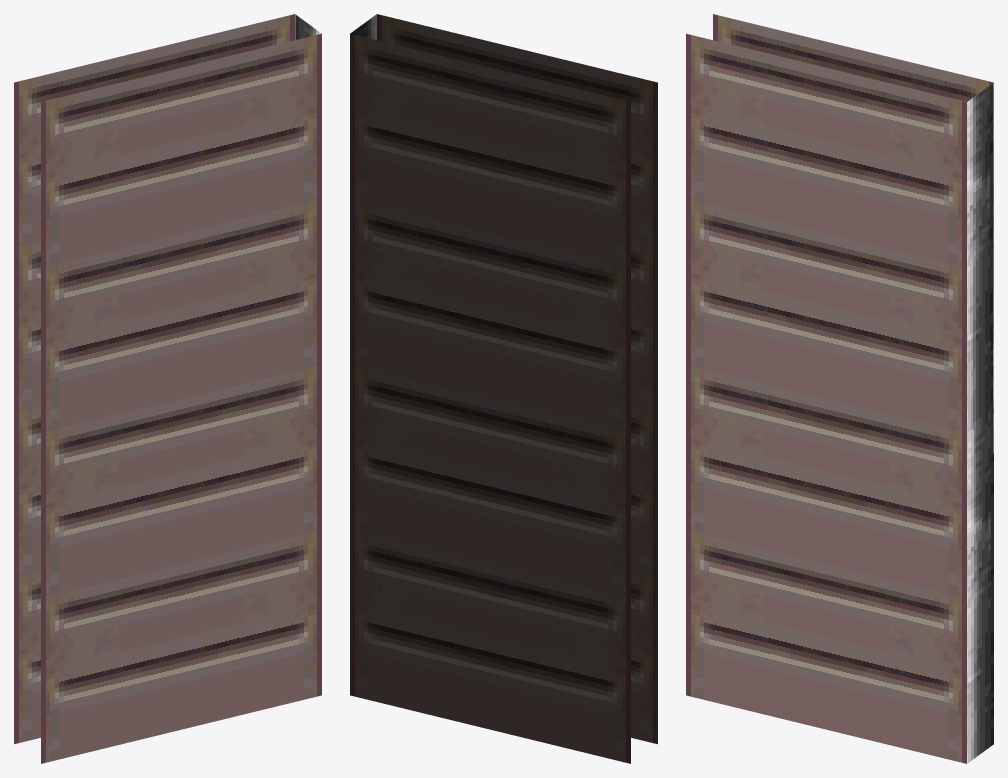
Rendered from PsevdoormetslideZ.obj.
3 renders of one model, left to right at view 1: azimuth 30°, elevation 25°; view 2: azimuth 150°, elevation 25°; view 3: azimuth 330°, elevation 25°, orthographic.
Bounding box in the file's own units: 700 × 1576 × 116.
2 materials, 2 textured.
